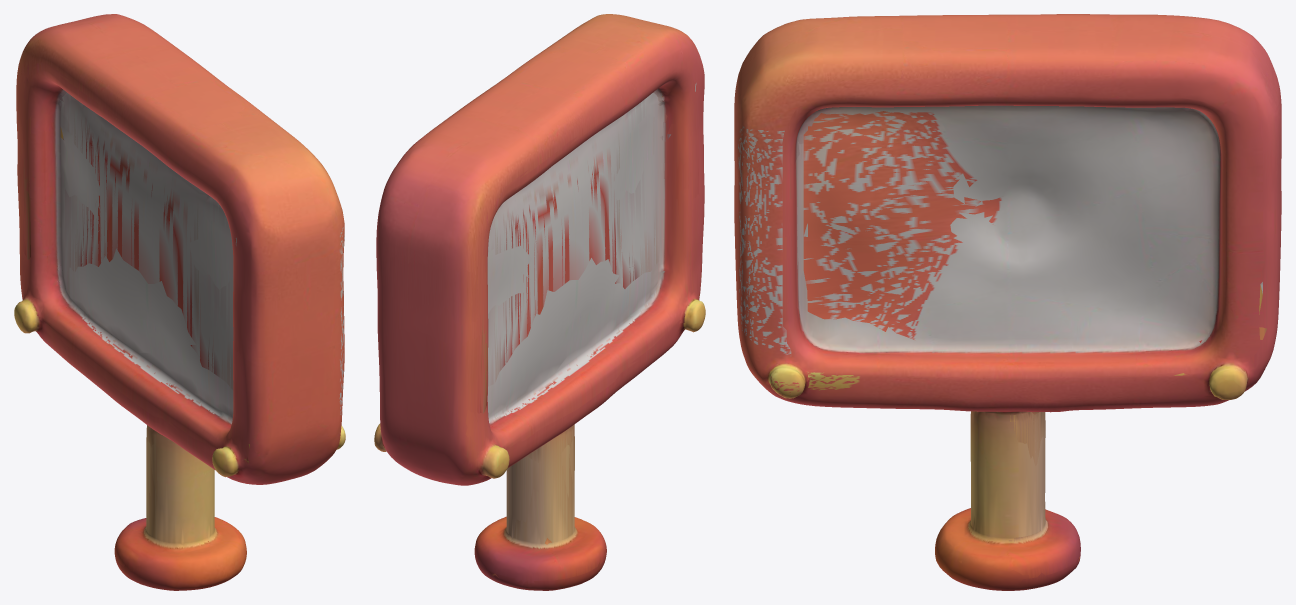
Rendered from env_nest_signboard_01.glb.
3 views of the same model, side by side, from view 1: azimuth 30°, elevation 25°; view 2: azimuth 150°, elevation 25°; view 3: azimuth 270°, elevation 25° (orthographic). The views are drawn at different scales.
Parts seen in each view (by area): view 1: tripo_node_bc268488-d95e-4ec1-a087-9d93bc0f01c4; view 2: tripo_node_bc268488-d95e-4ec1-a087-9d93bc0f01c4; view 3: tripo_node_bc268488-d95e-4ec1-a087-9d93bc0f01c4.
Part boxes in pixels (bbox=[...]): tripo_node_bc268488-d95e-4ec1-a087-9d93bc0f01c4: bbox=[14, 14, 345, 590]; tripo_node_bc268488-d95e-4ec1-a087-9d93bc0f01c4: bbox=[374, 14, 705, 590]; tripo_node_bc268488-d95e-4ec1-a087-9d93bc0f01c4: bbox=[734, 14, 1281, 590].
Size of the model in its own units: 0.4918 by 1.8 by 1.67.
Materials: 1 (1 with a texture image).
